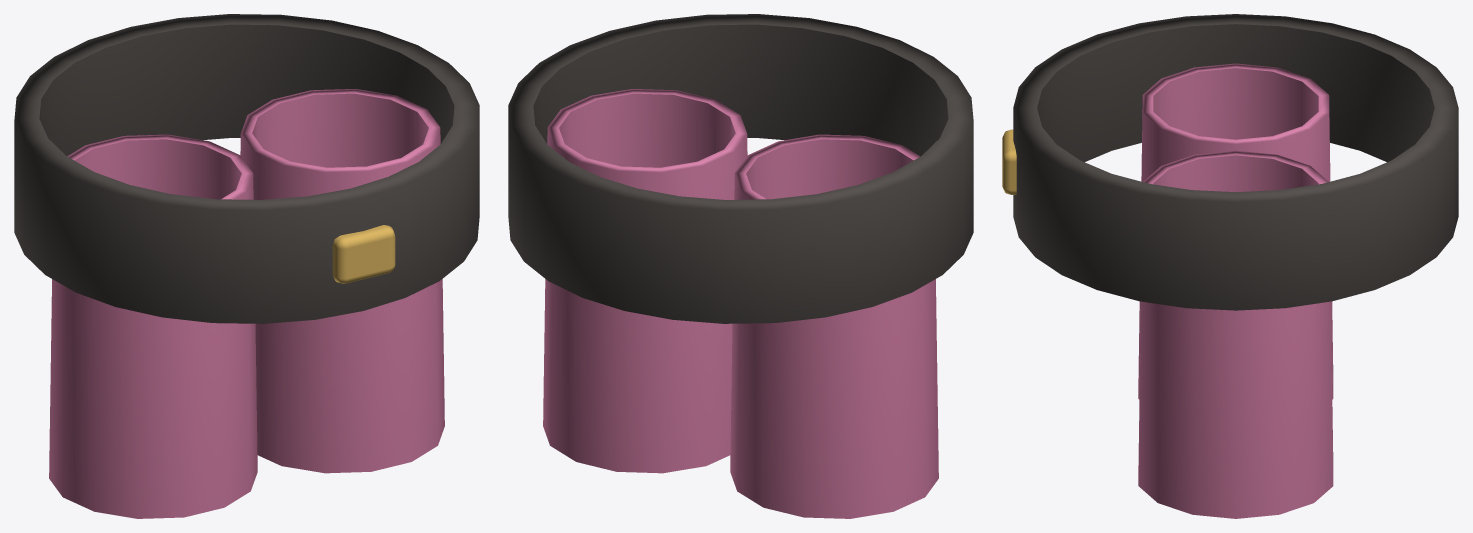
File: dress_pants.glb
The picture shows the model from 3 angles, left to right: view 1: azimuth 30°, elevation 25°; view 2: azimuth 150°, elevation 25°; view 3: azimuth 270°, elevation 25°; orthographic projection. The views are drawn at different scales.
Parts seen in each view (by area): view 1: dress_pants_Body, dress_pants_LegL, dress_pants_LegR; view 2: dress_pants_Body, dress_pants_LegL, dress_pants_LegR; view 3: dress_pants_Body, dress_pants_LegR, dress_pants_LegL.
Part boxes in pixels (bbox=[...]): dress_pants_Body: bbox=[14, 14, 479, 323]; dress_pants_LegL: bbox=[49, 134, 257, 518]; dress_pants_LegR: bbox=[240, 89, 444, 473]; dress_pants_Body: bbox=[508, 14, 973, 323]; dress_pants_LegL: bbox=[730, 134, 938, 518]; dress_pants_LegR: bbox=[543, 89, 747, 473]; dress_pants_Body: bbox=[1002, 14, 1458, 310]; dress_pants_LegR: bbox=[1138, 150, 1333, 518]; dress_pants_LegL: bbox=[1138, 63, 1333, 399].
Size of the model in its own units: 0.41 by 0.33 by 0.42.
